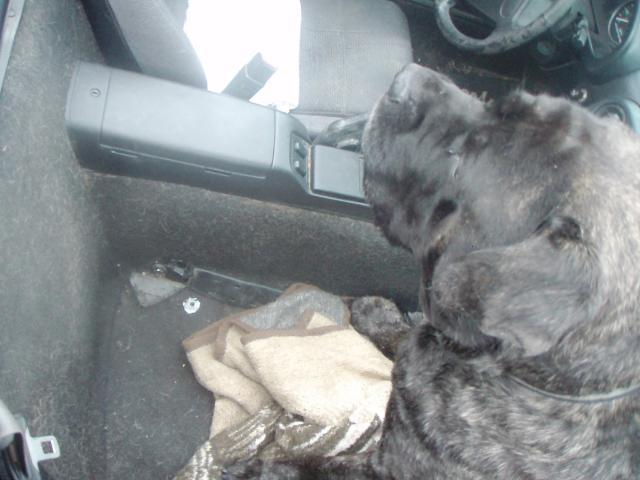Seatbelt: (1, 401, 62, 479)
